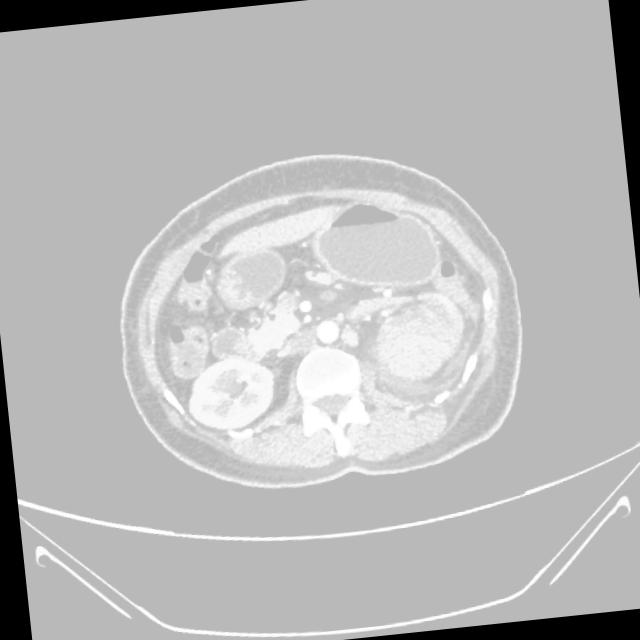TUMOR: (60, 170, 452, 393)
